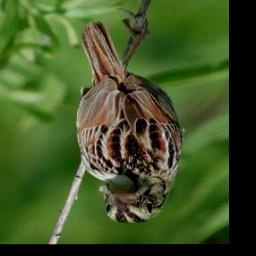Sparrow: (78, 7, 185, 225)
